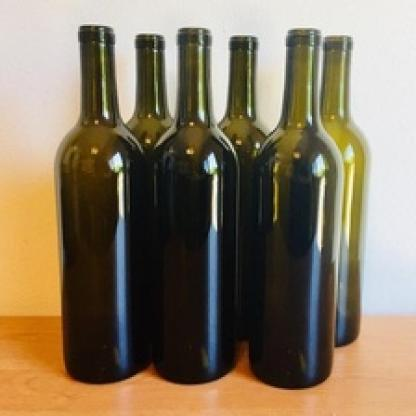Can: (54, 25, 149, 386), (148, 27, 242, 383), (253, 27, 336, 391), (216, 31, 268, 346), (321, 35, 370, 347), (122, 32, 177, 149)
